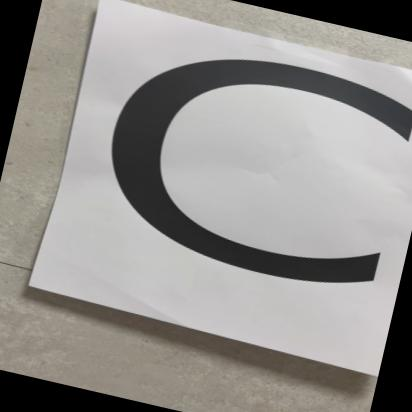seat: (3, 0, 412, 393)
